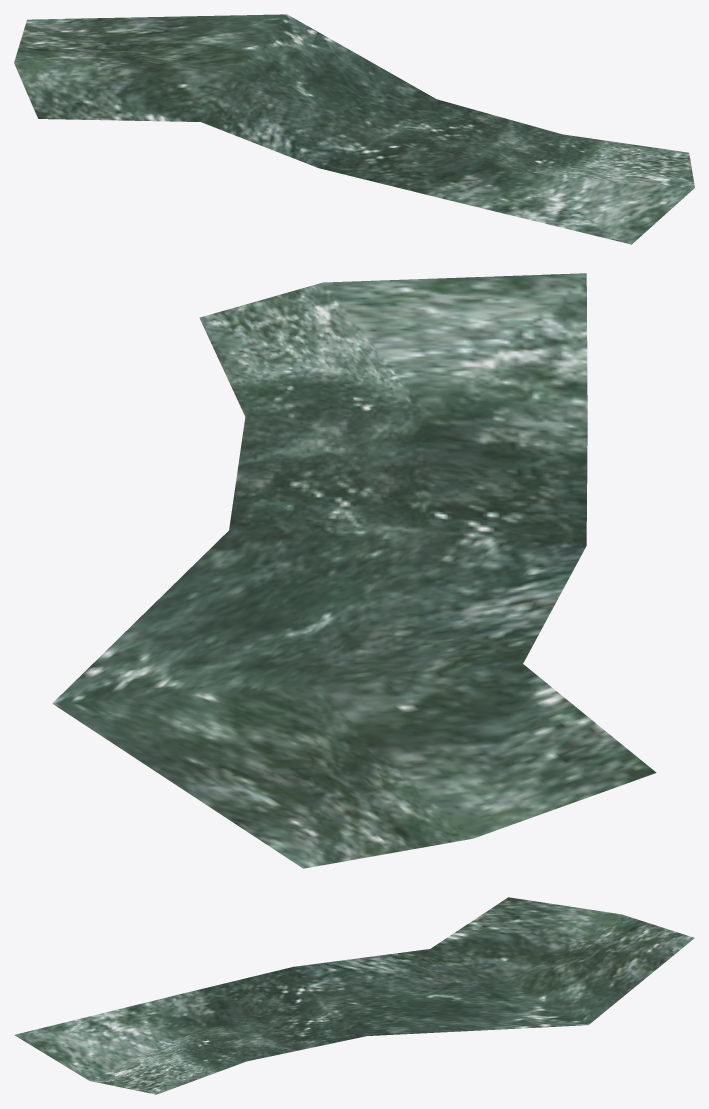
3 views of the same model, one above another, from view 1: azimuth 30°, elevation 25°; view 2: azimuth 150°, elevation 25°; view 3: azimuth 270°, elevation 25° (orthographic). The views are drawn at different scales.
Visible parts, largest first — view 1: pPlane1; view 2: pPlane1; view 3: pPlane1.
Part boxes in pixels (x1,y1,x2,y2): pPlane1: (14, 14, 694, 244); pPlane1: (52, 273, 656, 868); pPlane1: (14, 897, 694, 1094).
Size of the model in its own units: 3681 by 2.44e-12 by 5364.
